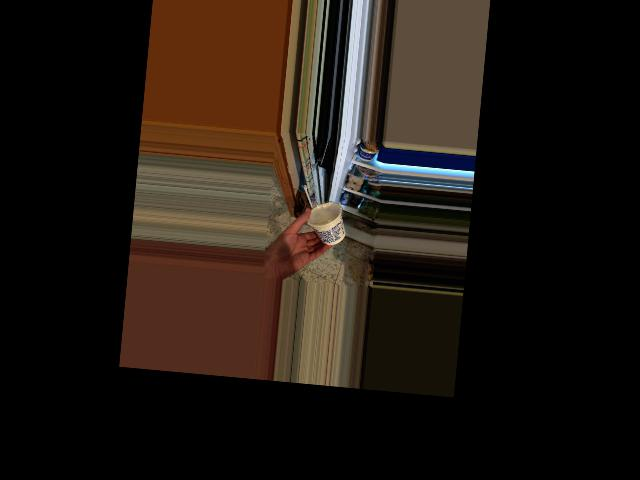cotage: (309, 200, 346, 245)
